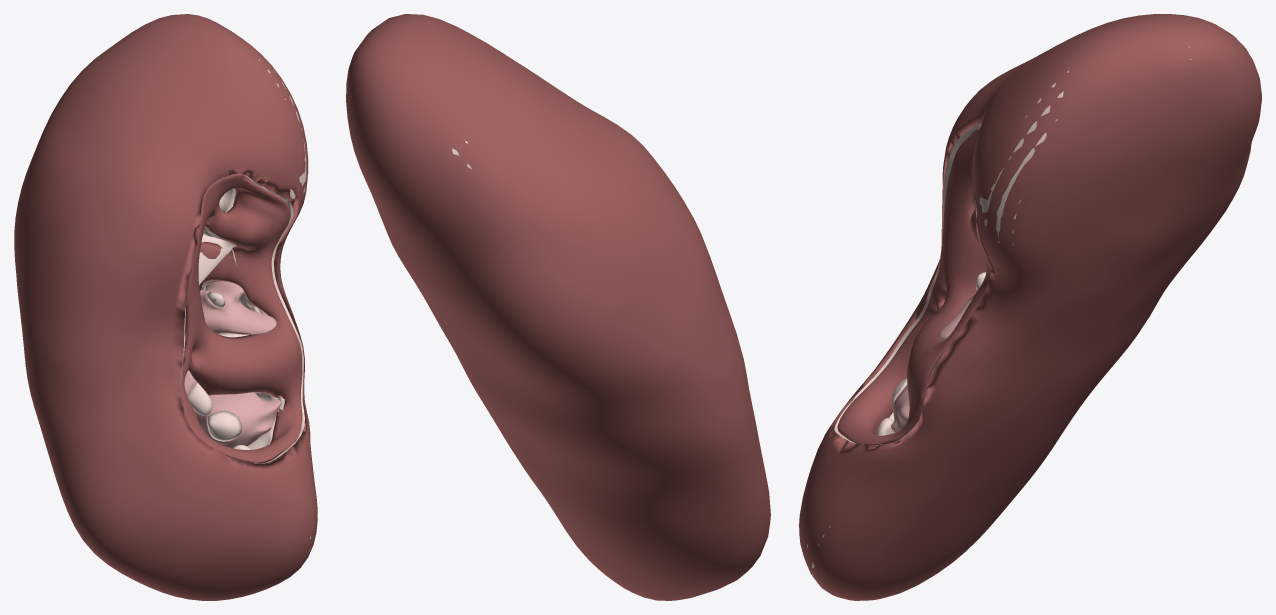
The picture shows the model from 3 angles, left to right: view 1: azimuth 30°, elevation 25°; view 2: azimuth 150°, elevation 25°; view 3: azimuth 270°, elevation 25°; orthographic projection. The views are drawn at different scales.
Visible parts, largest first — view 1: VH_M_kidney_capsule_R, VH_M_hilum_of_kidney_R, VH_M_renal_pyramid_f, VH_M_renal_pyramid_h, VH_M_renal_column_R, VH_M_outer_cortex_of_kidney_R, VH_M_renal_papilla_R_h, VH_M_renal_papilla_R_g; view 2: VH_M_kidney_capsule_R; view 3: VH_M_kidney_capsule_R, VH_M_hilum_of_kidney_R, VH_M_outer_cortex_of_kidney_R, VH_M_renal_pyramid_h.
Boxes of the visible parts, <box> form: VH_M_kidney_capsule_R: <box>14,14,317,600</box>; VH_M_hilum_of_kidney_R: <box>180,173,302,463</box>; VH_M_renal_pyramid_f: <box>200,281,276,334</box>; VH_M_renal_pyramid_h: <box>197,392,280,448</box>; VH_M_renal_column_R: <box>198,188,279,449</box>; VH_M_outer_cortex_of_kidney_R: <box>89,59,317,564</box>; VH_M_renal_papilla_R_h: <box>207,410,242,441</box>; VH_M_renal_papilla_R_g: <box>188,382,212,415</box>; VH_M_kidney_capsule_R: <box>346,14,770,600</box>; VH_M_kidney_capsule_R: <box>799,14,1261,600</box>; VH_M_hilum_of_kidney_R: <box>837,128,990,445</box>; VH_M_outer_cortex_of_kidney_R: <box>807,47,1191,575</box>; VH_M_renal_pyramid_h: <box>891,384,909,432</box>.
Bounding box in the file's own units: 0.0655 × 0.1125 × 0.0764.
